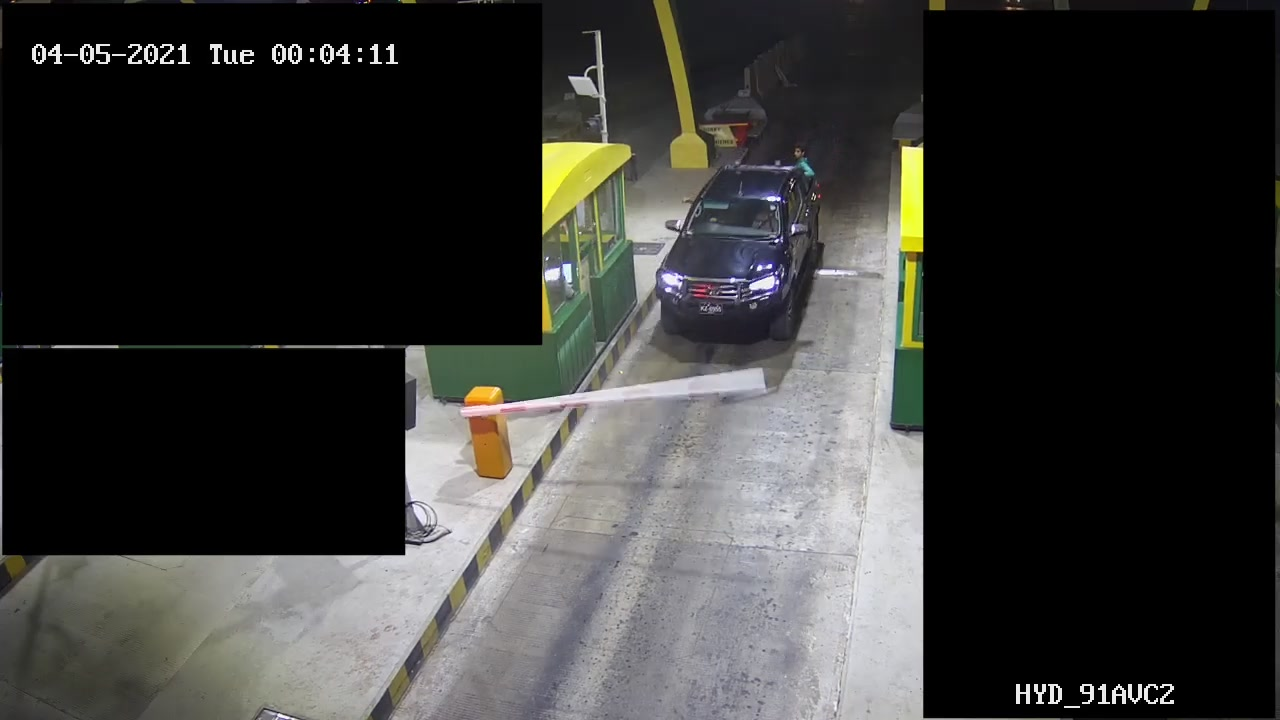F1: (651, 144, 826, 351)
